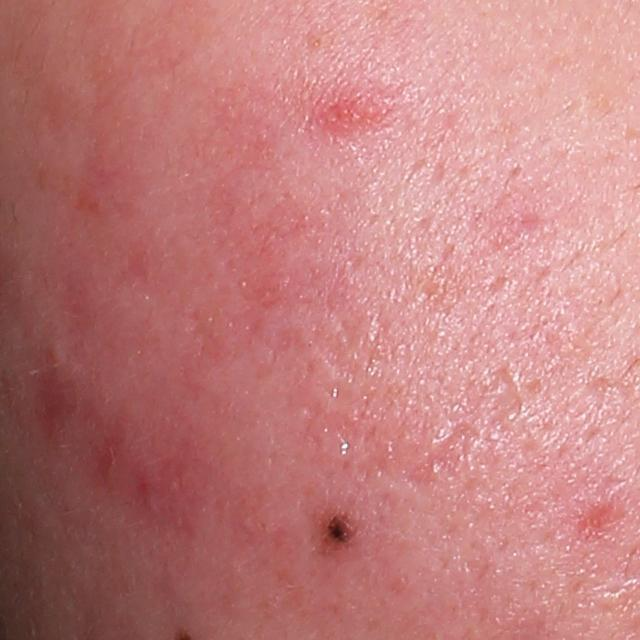atrophic_scar: (408, 421, 481, 484)
nevus: (306, 503, 362, 560)
